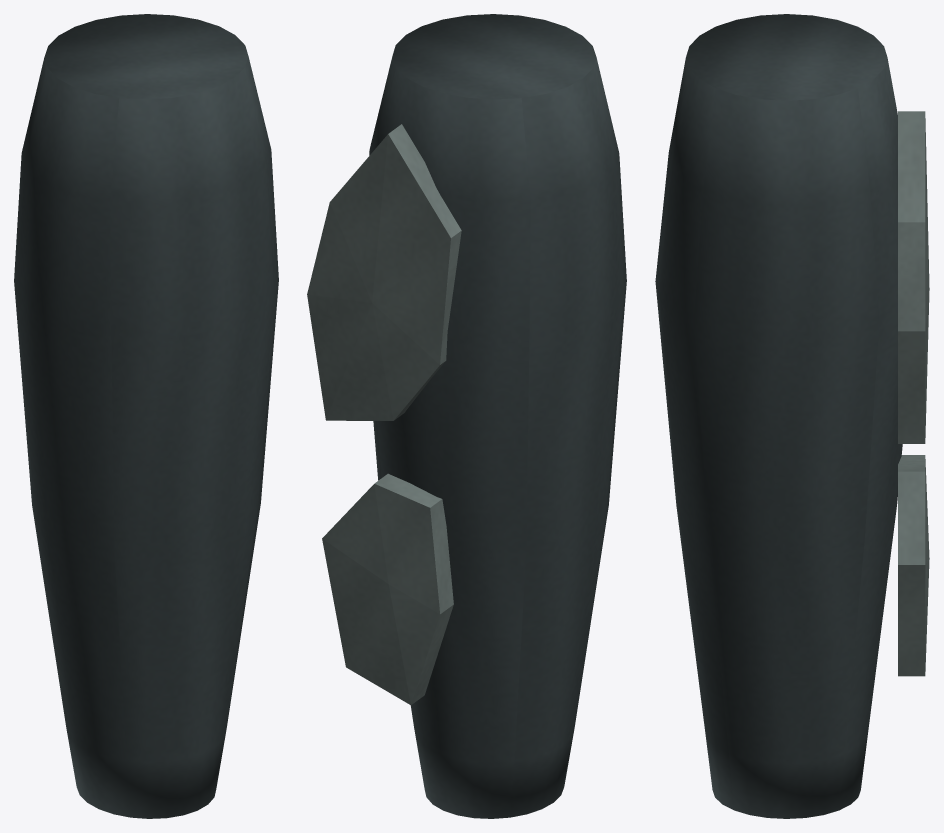
The model's file is forearm_l_lod0.glb.
3 renders of one model, left to right at view 1: azimuth 30°, elevation 25°; view 2: azimuth 150°, elevation 25°; view 3: azimuth 270°, elevation 25°, orthographic.
Parts seen in each view (by area): view 1: dormin_forearm_l_LOD0; view 2: dormin_forearm_l_LOD0; view 3: dormin_forearm_l_LOD0.
Part boxes in pixels (x1,y1,x2,y2): dormin_forearm_l_LOD0: (14, 14, 278, 818); dormin_forearm_l_LOD0: (307, 14, 626, 818); dormin_forearm_l_LOD0: (655, 14, 929, 818).
Size of the model in its own units: 1.42 by 4.25 by 1.44.
Materials: 2 (2 with a texture image).
